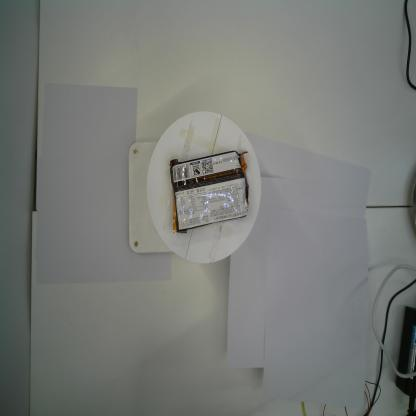Dessert: (168, 150, 252, 238)
